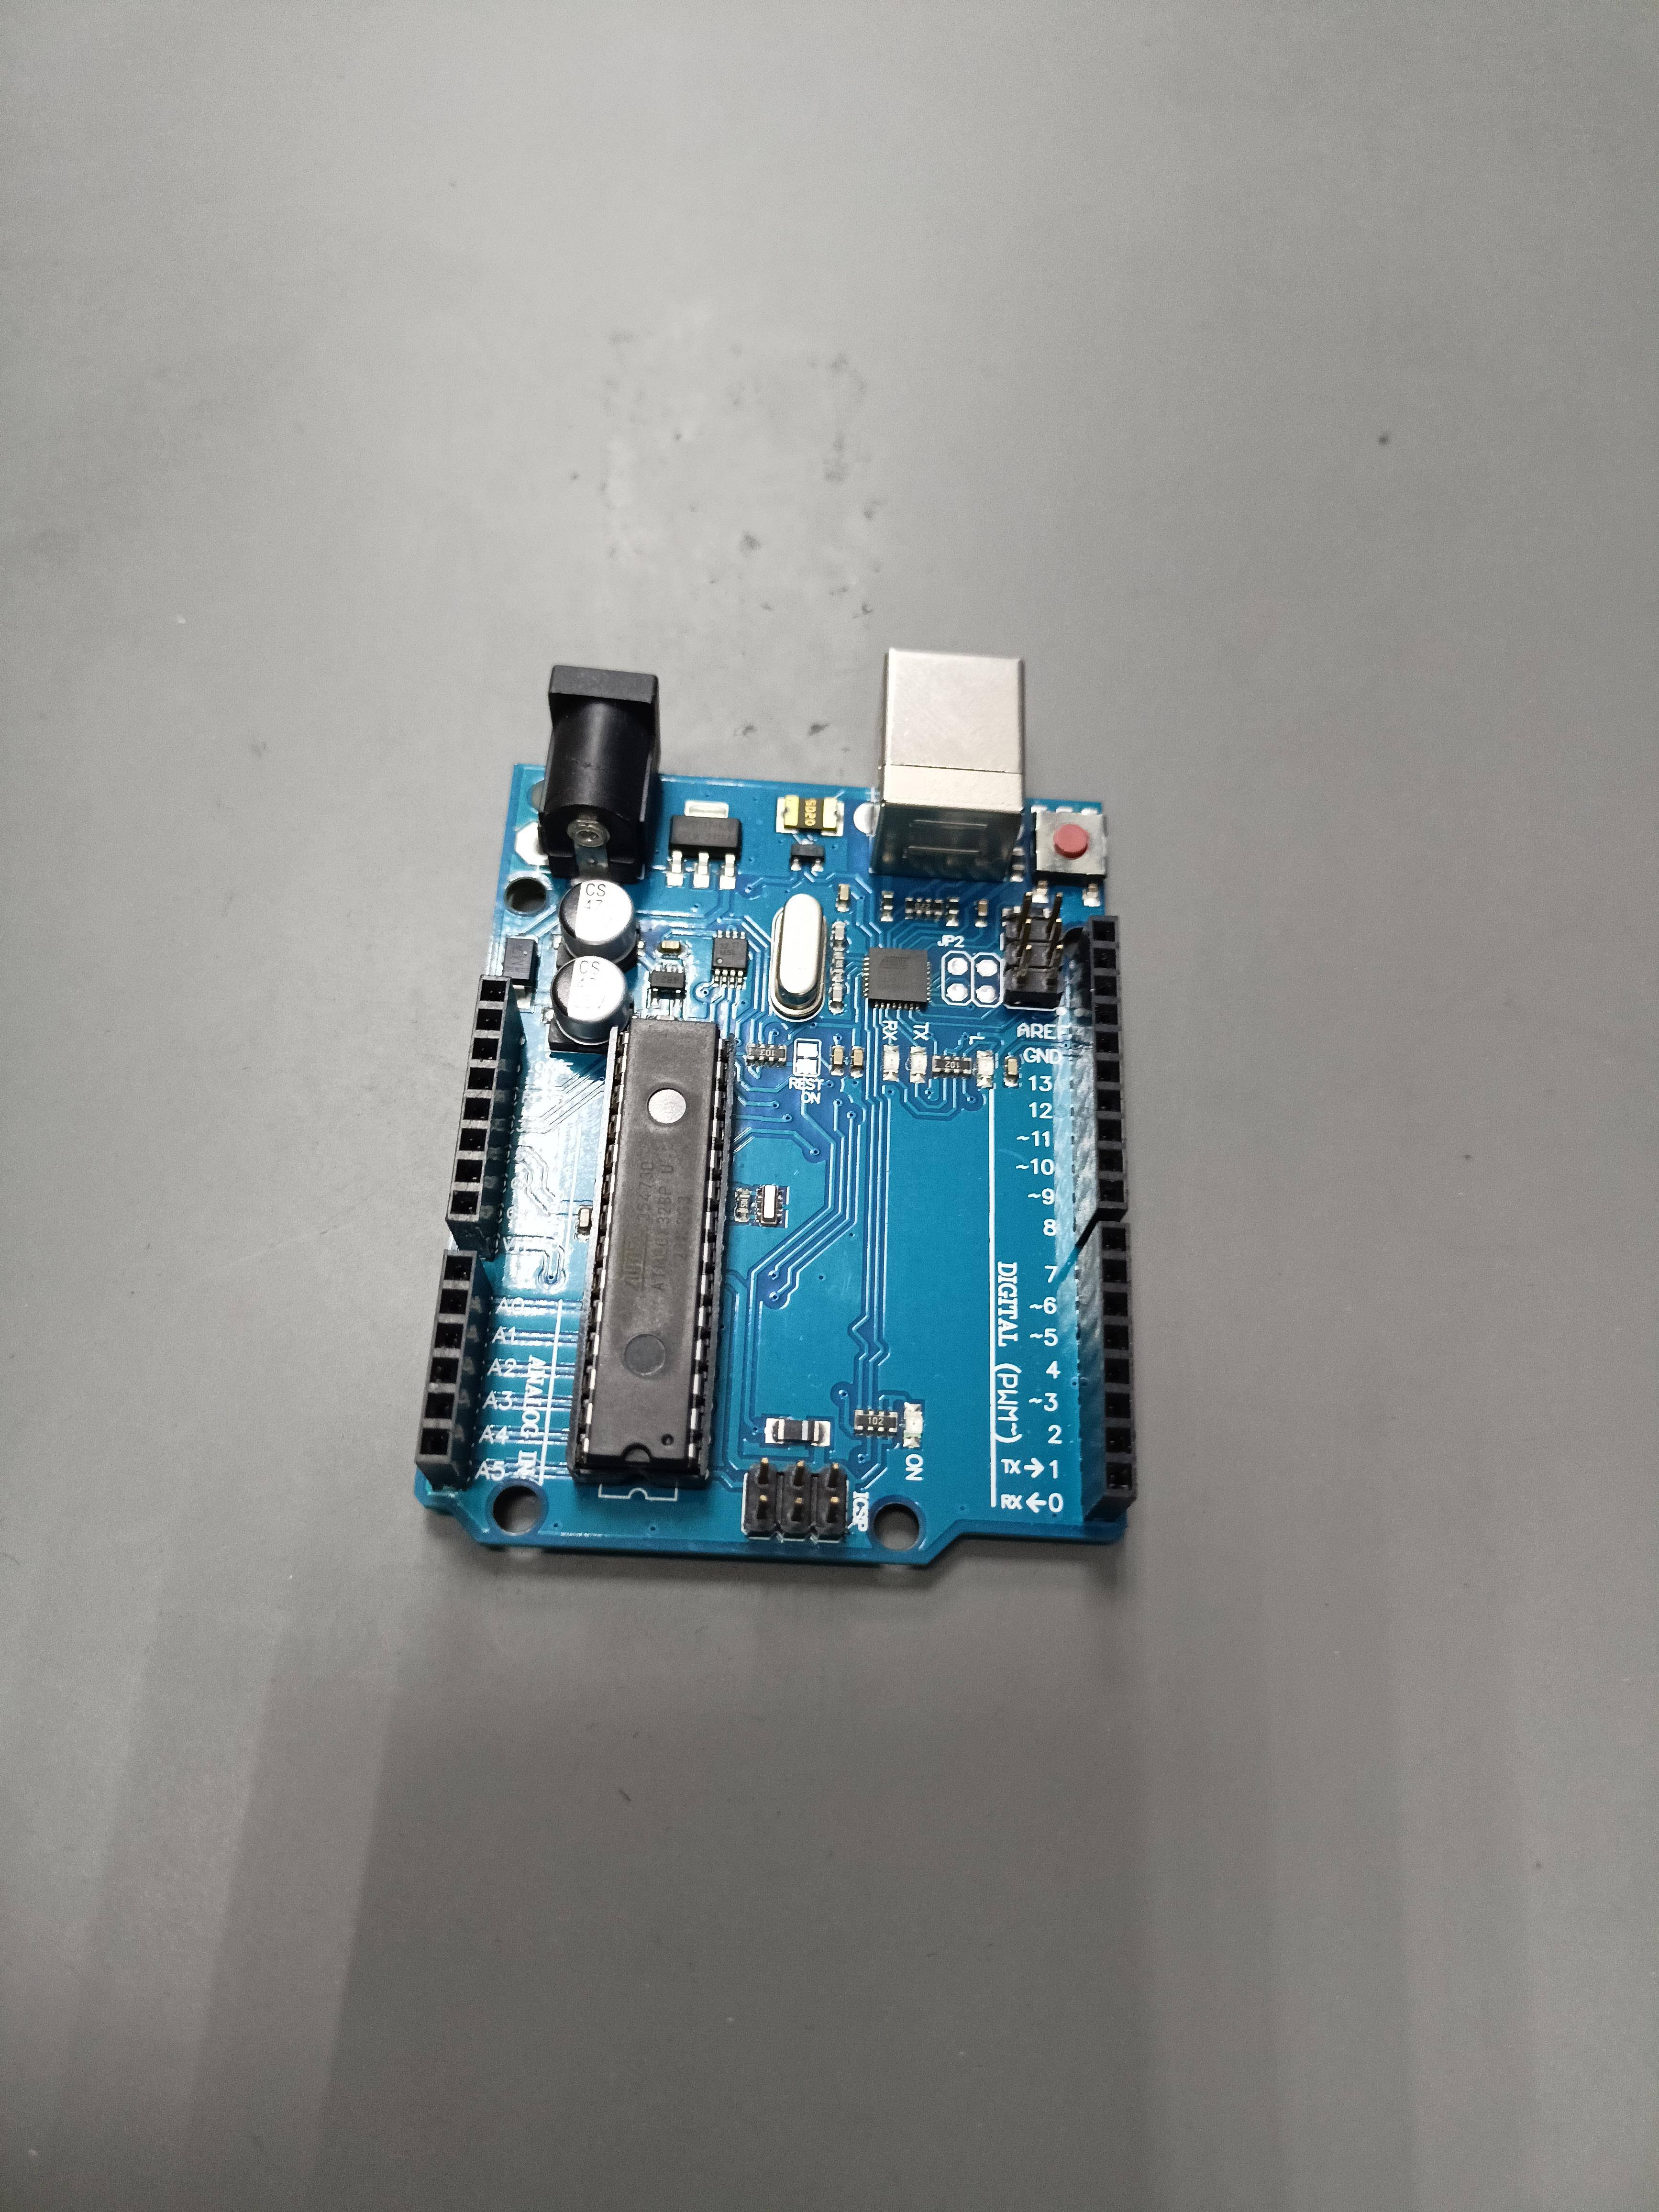ATmega328 chip: (566, 1017, 735, 1489)
Arduino board: (413, 648, 1138, 1564)
USB: (870, 648, 1025, 881)
capacitor: (556, 880, 640, 974), (551, 956, 634, 1045)
pins: (444, 974, 523, 1261), (413, 1249, 493, 1491), (1070, 914, 1127, 1247), (1075, 1221, 1138, 1522)
resistor: (854, 1411, 897, 1435), (932, 1055, 972, 1078), (746, 1043, 786, 1066), (904, 897, 943, 920)
